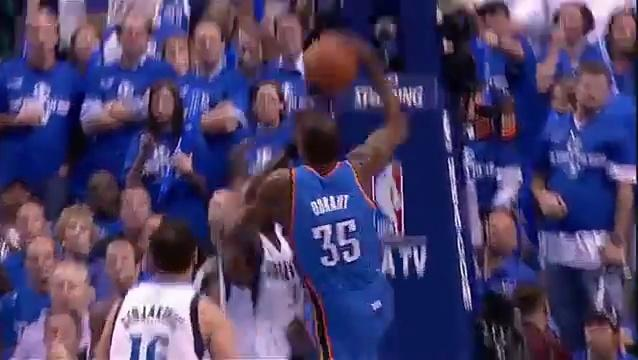Ball: (303, 34, 358, 92)
Person: (254, 94, 409, 360), (96, 219, 233, 360), (216, 171, 305, 360)
person: (41, 247, 100, 360)
